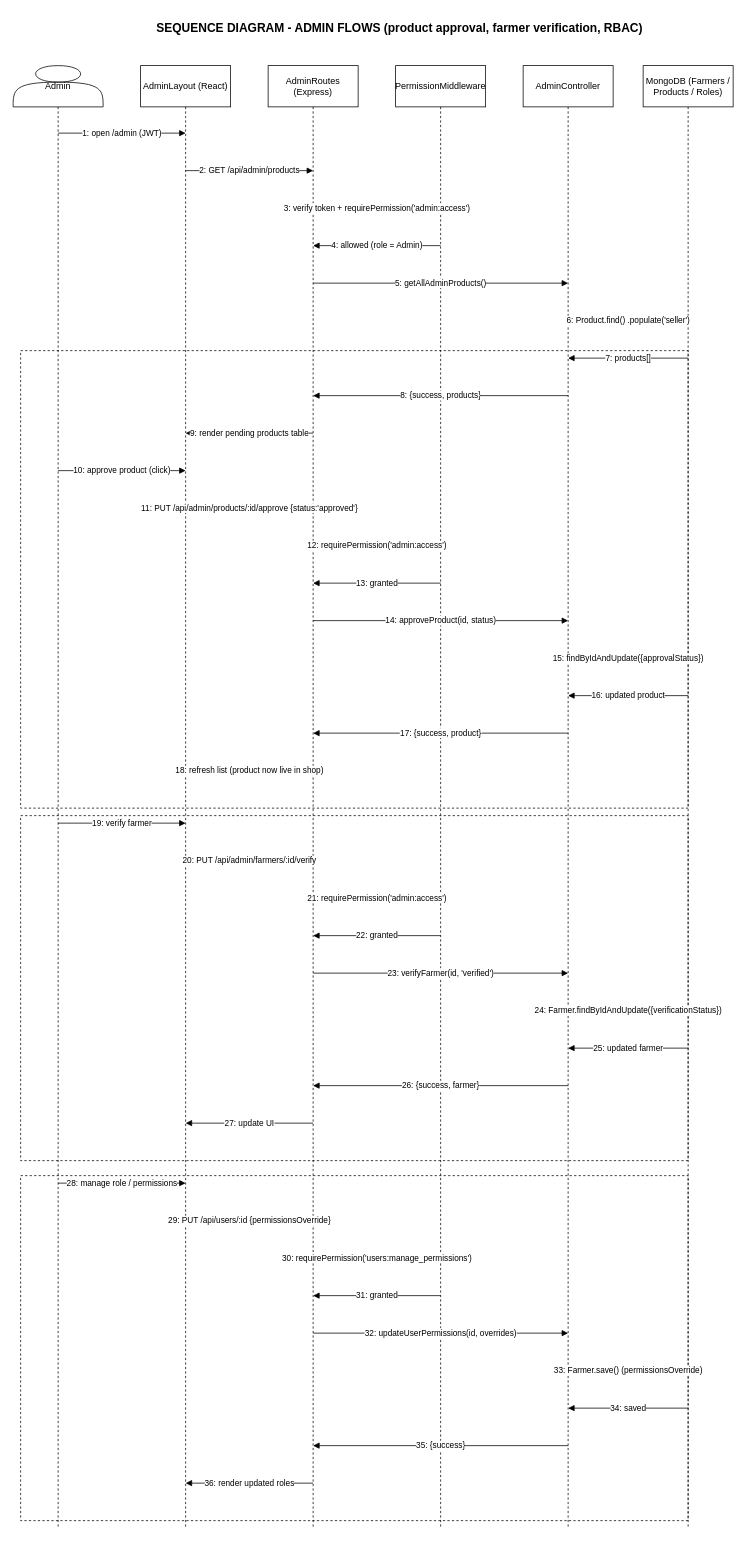
Image size: 746x1542. Some labels were removed from this diagram. Here are the shapes that lost their labels. From the top down, the centre of each, then its label:
[354,579]: alt [manage products & approvals]
[354,988]: alt [manage farmers / users]
[354,1348]: alt [manage roles & permissions]
